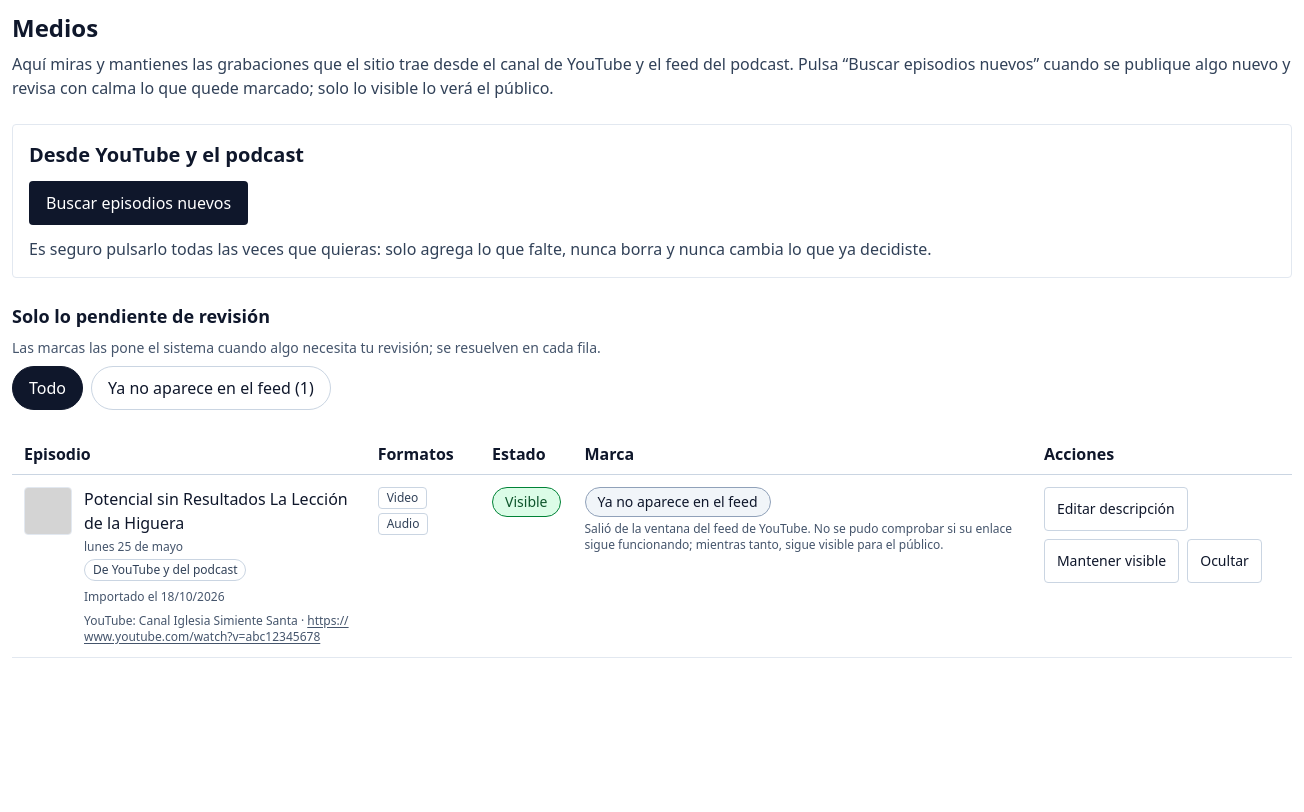
Test case: MediosPage · filtro de marcas (⟲ D-10) › el filtro sin resultados dice que todo está al día (no es un hueco, §4.8)
This screenshot has width=1304, height=812.
Expected: the table is shown, [12,434,1292,658]
Click the button "Ya no aparece en el feed (1)" at (211, 388), box [91,366,331,410]
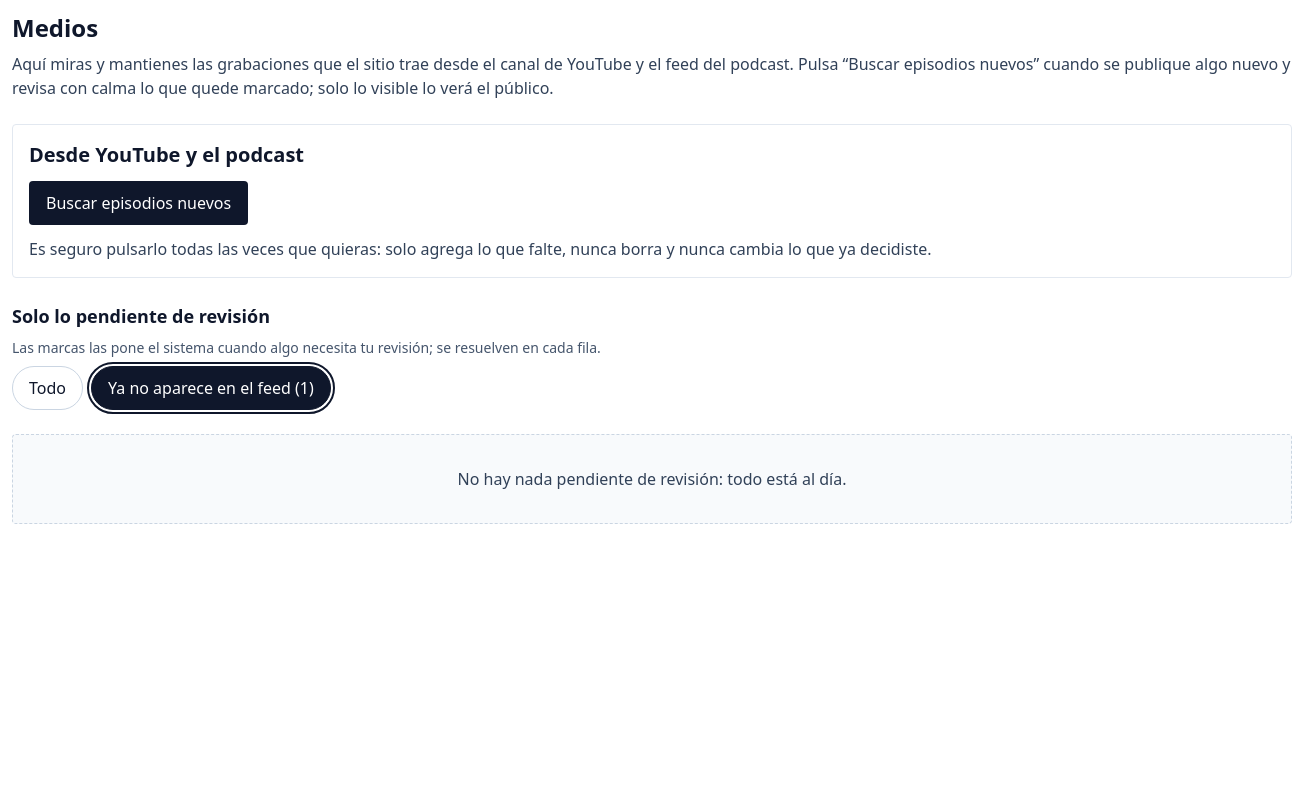
Expected: the number of buttons "Buscar episodios nuevos" is 1, [29,181,248,225]
Result: the text "No hay nada pendiente de revisión: todo está al día." is shown at [458,467,846,491]
